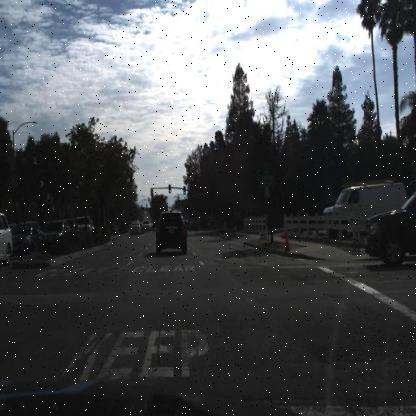car: (323, 180, 407, 238), (321, 176, 406, 233), (152, 209, 189, 258), (8, 216, 48, 257), (9, 216, 39, 258), (38, 216, 73, 252), (38, 215, 70, 251), (68, 211, 99, 240), (26, 216, 54, 238), (129, 220, 144, 237)
trafficLight-Green: (168, 183, 172, 195), (182, 184, 186, 196)
